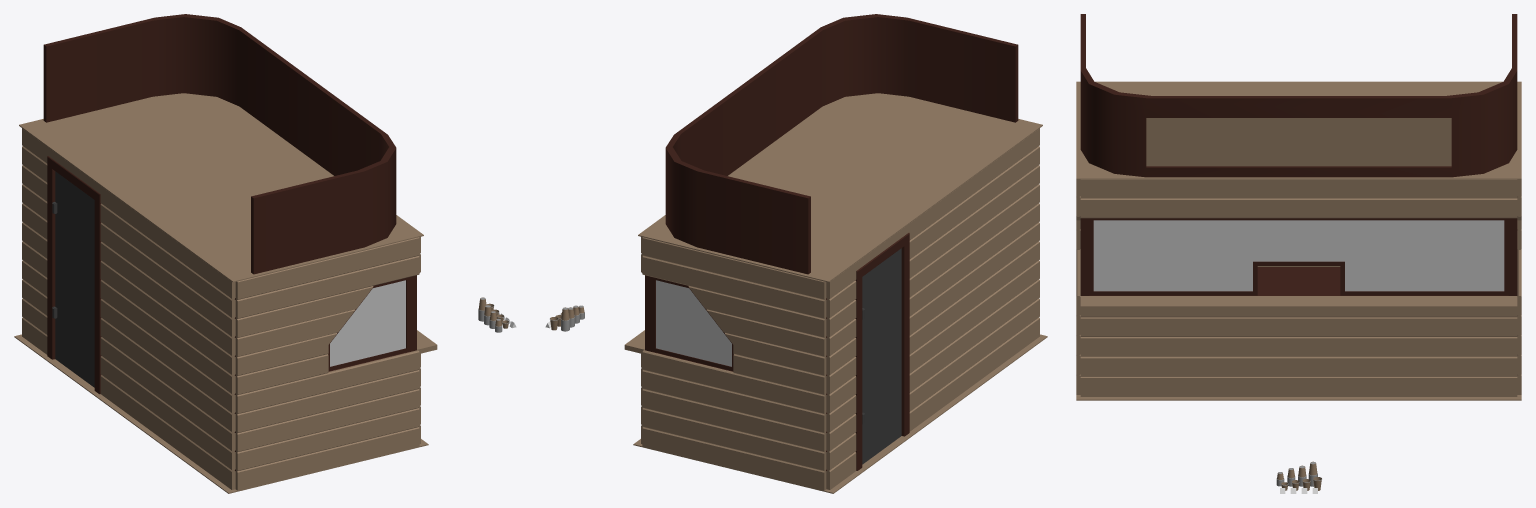
The model's file is SCoffe.fbx.
The picture shows the model from 3 angles, left to right: view 1: azimuth 30°, elevation 25°; view 2: azimuth 150°, elevation 25°; view 3: azimuth 270°, elevation 25°; orthographic projection. The views are drawn at different scales.
Visible parts, largest first — view 1: Куб_2_3, Стена_1, Стена_3, Потолок, Дверь, Стекло_1, Каркас, Пол, Стена_2; view 2: Куб_2_3, Стена_1, Стена_4, Потолок, Дверь, Стекло_1, Каркас, Пол, Стена_2; view 3: Стена_2, Куб_2_3, Стекло, Потолок, Каркас, Пол, Стена_3, Стена_4, Чашки_1.
Part boxes in pixels (x1,y1,x2,y2): Куб_2_3: (43,14,396,274); Стена_1: (22,128,235,489); Стена_3: (235,237,419,490); Потолок: (19,93,423,282); Дверь: (52,171,94,387); Стекло_1: (328,277,409,371); Каркас: (47,156,416,470); Пол: (14,334,428,493); Стена_2: (417,237,437,443); Куб_2_3: (665,14,1018,274); Стена_1: (826,128,1039,489); Стена_4: (642,237,826,490); Потолок: (638,93,1042,282); Дверь: (862,248,901,464); Стекло_1: (652,277,733,371); Каркас: (645,233,909,470); Пол: (633,334,1047,493); Стена_2: (624,237,644,443); Стена_2: (1080,179,1517,396); Куб_2_3: (1080,14,1517,177); Стекло: (1089,218,1508,295); Потолок: (1076,81,1521,179); Каркас: (1080,218,1517,295); Пол: (1076,395,1521,400); Стена_3: (1076,179,1080,394); Стена_4: (1517,179,1521,394); Чашки_1: (1276,461,1317,486).
Size of the model in its own units: 425 by 302 by 408.
